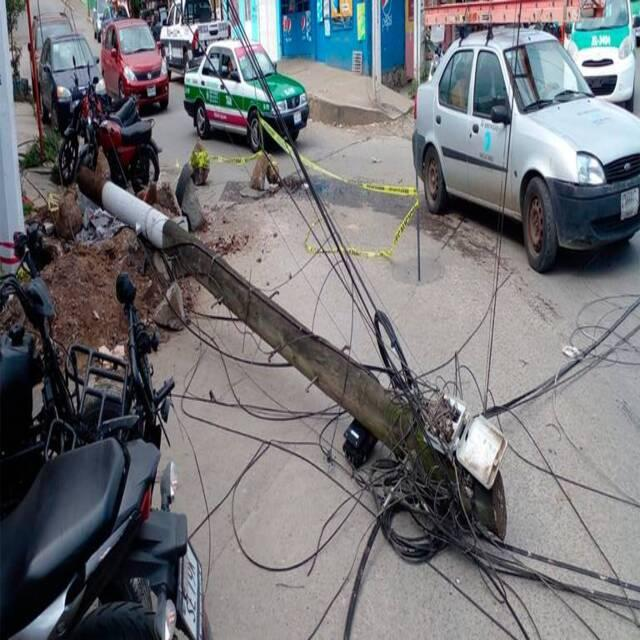Inclined Pole: (70, 162, 521, 561)
